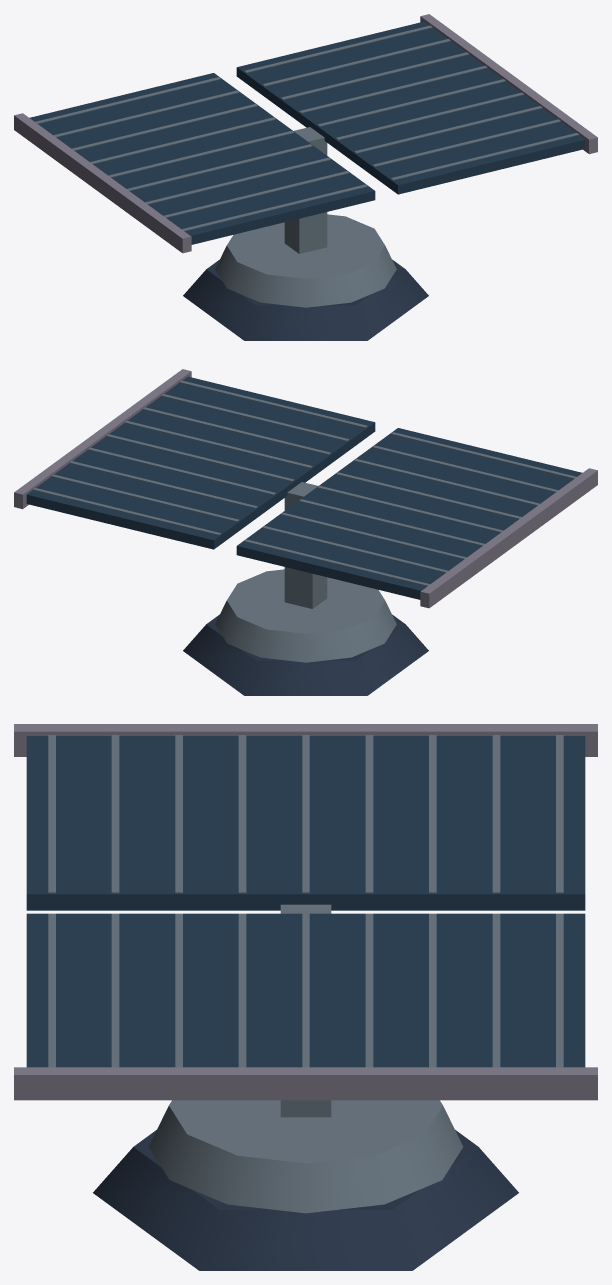
File: cryogenic_hydrocarbon--radiator.glb
3 renders of one model, top to bottom at view 1: azimuth 30°, elevation 25°; view 2: azimuth 150°, elevation 25°; view 3: azimuth 270°, elevation 25°, orthographic. The views are drawn at different scales.
Visible parts, largest first — view 1: radiator_panel_15, radiator_panel_4, rotation_bearing_2, mount_adapter_1, panel_edge_14, panel_edge_25, thermal_riser_3, thermal_channel_17, thermal_channel_19, thermal_channel_16, thermal_channel_20, thermal_channel_21 (+13 smaller); view 2: radiator_panel_15, radiator_panel_4, rotation_bearing_2, mount_adapter_1, panel_edge_14, panel_edge_25, thermal_riser_3, thermal_channel_21, thermal_channel_23, thermal_channel_18, thermal_channel_19, thermal_channel_20 (+13 smaller); view 3: radiator_panel_4, radiator_panel_15, rotation_bearing_2, mount_adapter_1, panel_edge_25, panel_edge_14, thermal_riser_3, thermal_channel_6, thermal_channel_8, thermal_channel_10, thermal_channel_12, thermal_channel_17 (+13 smaller).
Part boxes in pixels (bbox=[...]): radiator_panel_15: bbox=[236, 21, 585, 194]; radiator_panel_4: bbox=[29, 73, 375, 244]; rotation_bearing_2: bbox=[215, 214, 396, 307]; mount_adapter_1: bbox=[183, 259, 428, 340]; panel_edge_14: bbox=[14, 113, 191, 253]; panel_edge_25: bbox=[420, 14, 597, 154]; thermal_riser_3: bbox=[284, 127, 327, 253]; thermal_channel_17: bbox=[262, 39, 450, 86]; thermal_channel_19: bbox=[299, 65, 487, 113]; thermal_channel_16: bbox=[244, 25, 432, 72]; thermal_channel_20: bbox=[317, 79, 505, 126]; thermal_channel_21: bbox=[336, 92, 524, 139]; radiator_panel_15: bbox=[26, 376, 375, 549]; radiator_panel_4: bbox=[236, 428, 582, 599]; rotation_bearing_2: bbox=[215, 569, 396, 662]; mount_adapter_1: bbox=[183, 614, 428, 695]; panel_edge_14: bbox=[420, 468, 597, 608]; panel_edge_25: bbox=[14, 369, 191, 509]; thermal_riser_3: bbox=[284, 482, 327, 608]; thermal_channel_21: bbox=[124, 420, 312, 468]; thermal_channel_23: bbox=[161, 394, 349, 441]; thermal_channel_18: bbox=[69, 461, 257, 508]; thermal_channel_19: bbox=[87, 447, 275, 494]; thermal_channel_20: bbox=[106, 434, 294, 481]; radiator_panel_4: bbox=[26, 736, 585, 910]; radiator_panel_15: bbox=[26, 913, 585, 1067]; rotation_bearing_2: bbox=[148, 1100, 463, 1213]; mount_adapter_1: bbox=[93, 1130, 518, 1270]; panel_edge_25: bbox=[14, 1067, 597, 1100]; panel_edge_14: bbox=[14, 724, 597, 756]; thermal_riser_3: bbox=[280, 904, 331, 1117]; thermal_channel_6: bbox=[492, 735, 500, 893]; thermal_channel_8: bbox=[365, 735, 373, 893]; thermal_channel_10: bbox=[238, 735, 246, 893]; thermal_channel_12: bbox=[111, 735, 119, 893]; thermal_channel_17: bbox=[492, 913, 500, 1067].
Size of the model in its own units: 19.62 by 7.65 by 13.8.
